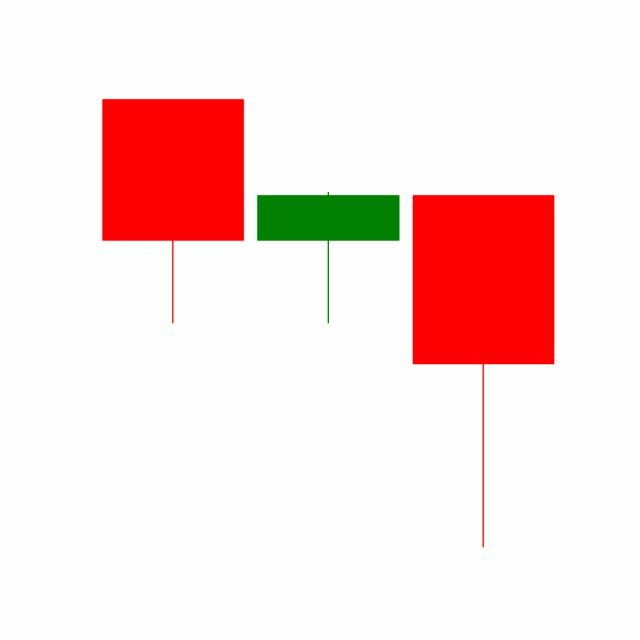Hanging Man: (249, 190, 406, 324)
